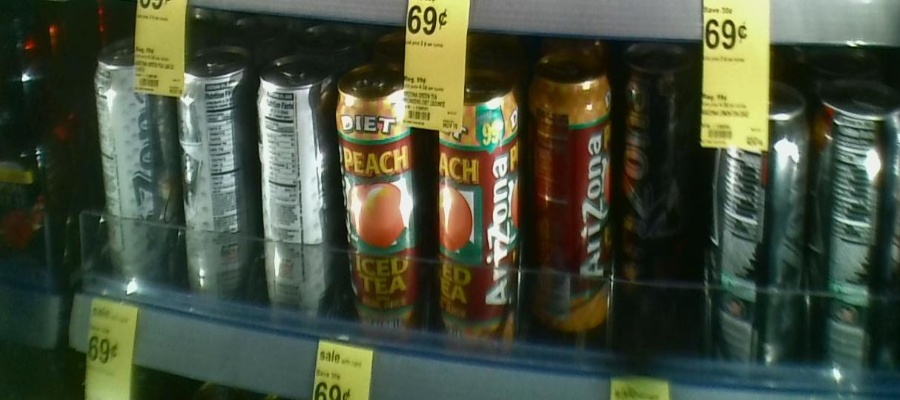bottle: (706, 83, 810, 392), (812, 69, 900, 396), (432, 54, 525, 356), (334, 56, 428, 349), (529, 45, 617, 344), (90, 29, 172, 295), (173, 40, 254, 307), (256, 45, 331, 324), (619, 40, 692, 250)
